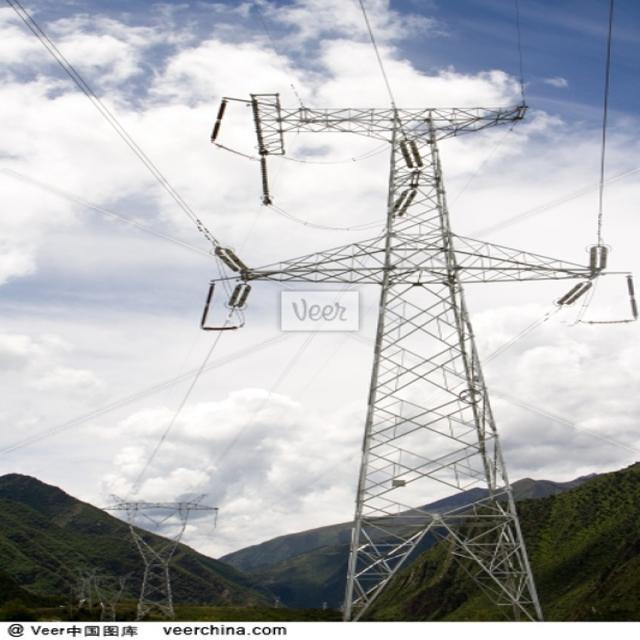non-critical vegetation: (205, 84, 592, 558)
